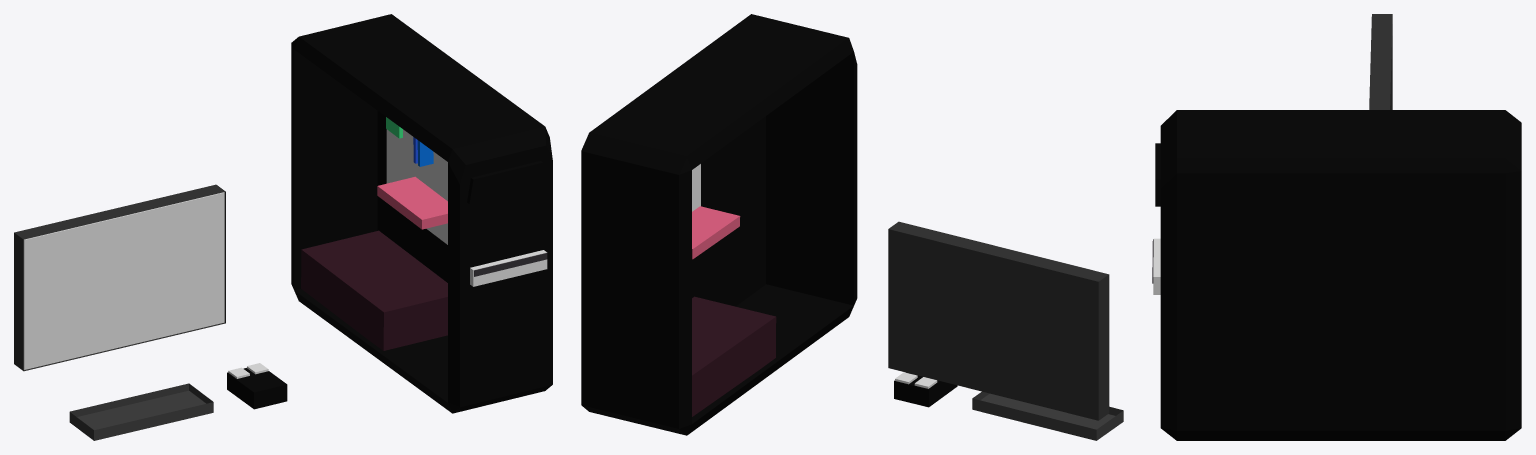
File: COMPUTADORA.fbx
3 views of the same model, side by side, from view 1: azimuth 30°, elevation 25°; view 2: azimuth 150°, elevation 25°; view 3: azimuth 270°, elevation 25° (orthographic). The views are drawn at different scales.
Visible parts, largest first — view 1: Cube, Cube.002, Cube.008, Cube.006, Cube.001, Cube.009, Cube.007, Cube.012, Cube.003, Cube.005; view 2: Cube, Cube.001, Cube.008, Cube.006, Cube.007, Cube.012; view 3: Cube, Cube.001, Cube.003.
Boxes of the visible parts, x1,y1,x2,y2 form: Cube: [291, 14, 552, 413]; Cube.002: [23, 192, 224, 369]; Cube.008: [301, 230, 447, 350]; Cube.006: [69, 383, 213, 440]; Cube.001: [14, 184, 225, 371]; Cube.009: [386, 129, 447, 244]; Cube.007: [377, 176, 447, 229]; Cube.012: [227, 368, 287, 409]; Cube.003: [470, 250, 547, 286]; Cube.005: [474, 253, 547, 276]; Cube: [581, 14, 857, 435]; Cube.001: [888, 221, 1109, 420]; Cube.008: [692, 296, 776, 416]; Cube.006: [972, 391, 1123, 440]; Cube.007: [692, 206, 740, 259]; Cube.012: [894, 372, 957, 407]; Cube: [1155, 110, 1521, 440]; Cube.001: [1369, 14, 1392, 109]; Cube.003: [1153, 238, 1160, 294].
Size of the model in its own units: 297 by 173 by 205.
